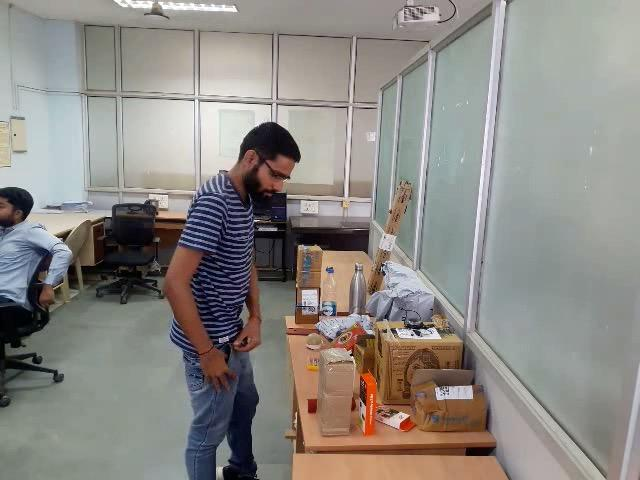shoplifting: (124, 291, 262, 453)
